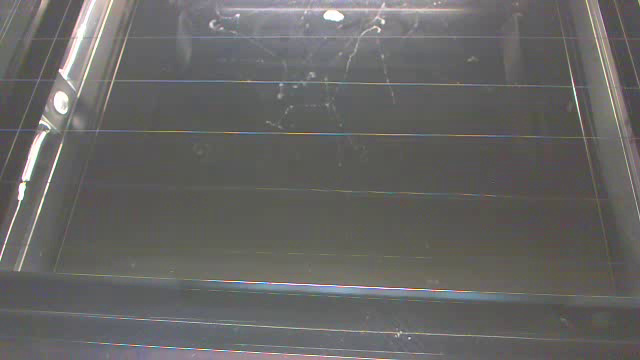alpha: (317, 8, 348, 24)
